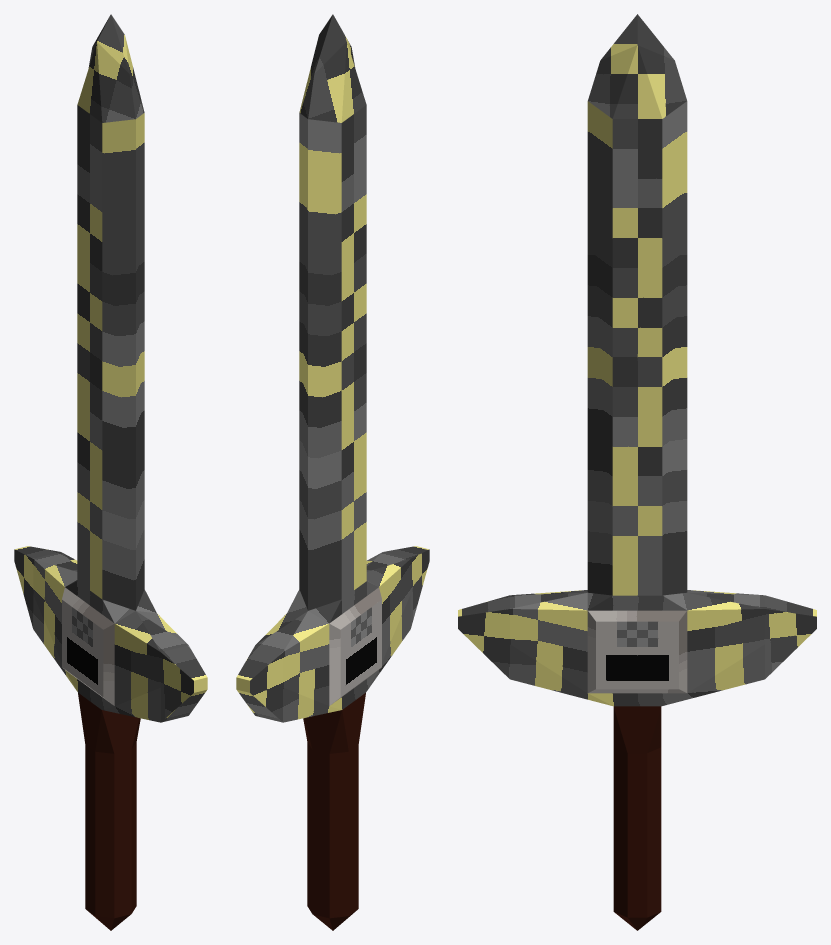
File: scripted_item.obj
The picture shows the model from 3 angles, left to right: view 1: azimuth 30°, elevation 25°; view 2: azimuth 150°, elevation 25°; view 3: azimuth 270°, elevation 25°; orthographic projection.
Parts seen in each view (by area): view 1: tip, lever, screen; view 2: tip, lever, screen; view 3: tip, lever, screen.
Part boxes in pixels (x1,y1,x2,y2): tip: (14, 14, 207, 722); lever: (78, 693, 140, 930); screen: (62, 587, 159, 705); tip: (236, 14, 429, 722); lever: (303, 693, 365, 930); screen: (284, 587, 381, 705); tip: (458, 14, 816, 706); lever: (613, 706, 661, 930); screen: (587, 610, 687, 693).
Size of the model in its own units: 0.0789 by 1.22 by 0.4327.
